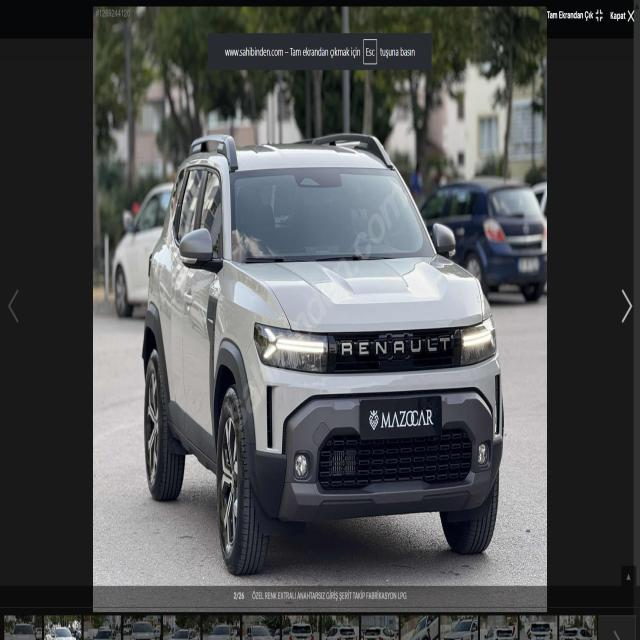renault: (330, 324, 455, 368)
